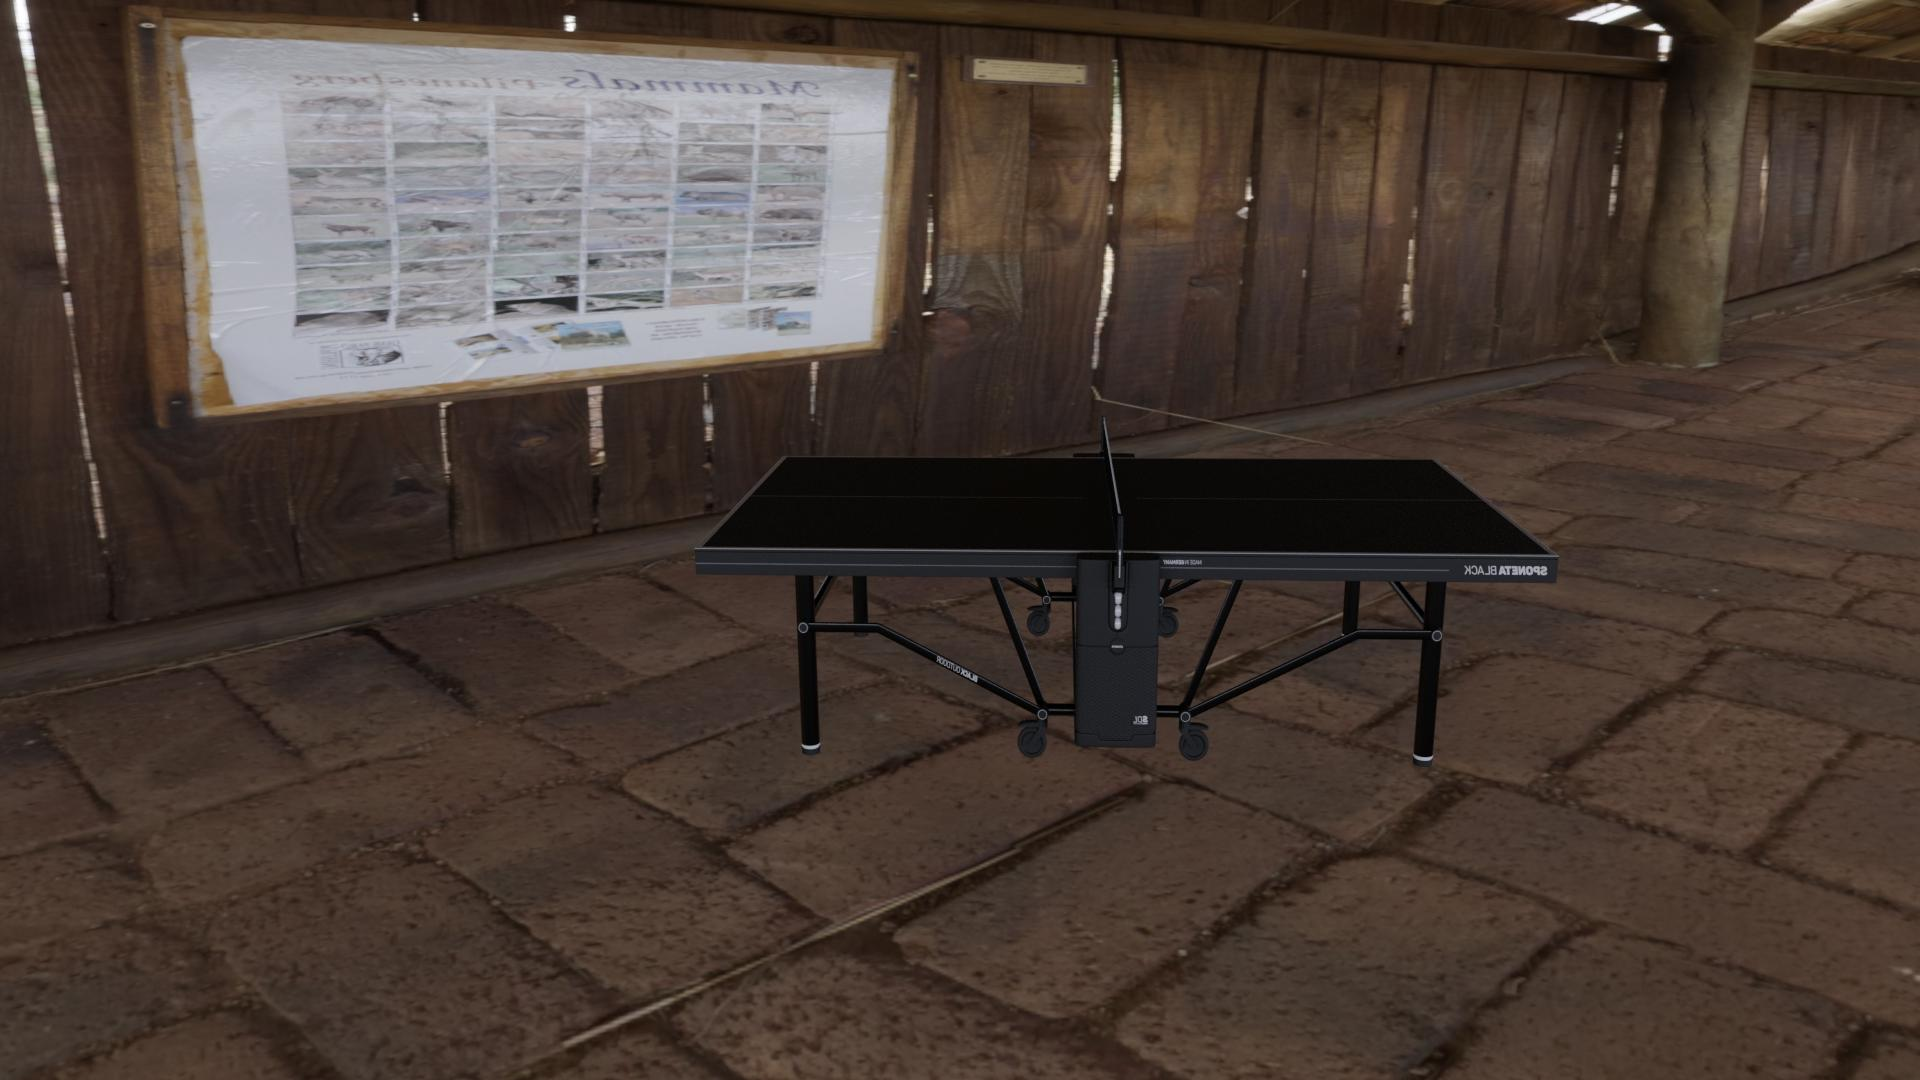table: (702, 456, 1551, 554)
